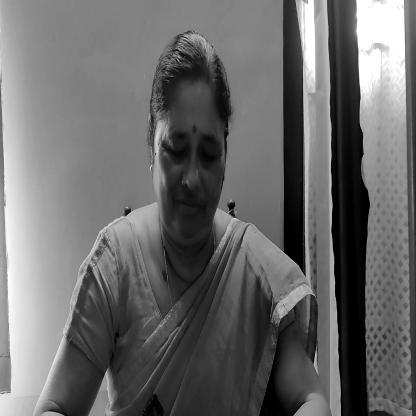Normal: (147, 33, 224, 227)
